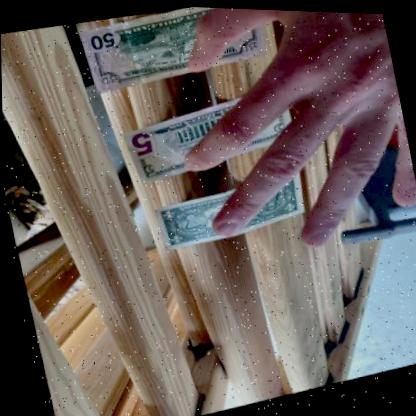dollar_back: (120, 88, 294, 186), (78, 6, 268, 95), (149, 170, 302, 252)
